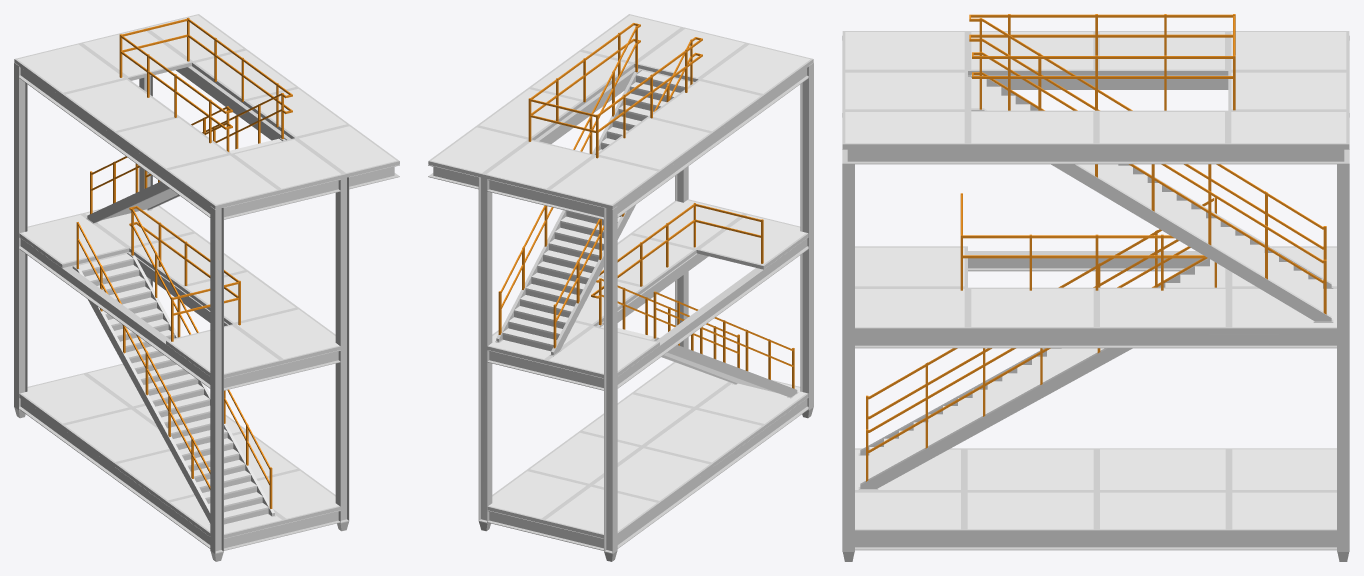
File: SM_H_Building_Tide_DeepJail_04_Shelf_04b_ATLAS.fbx
3 renders of one model, left to right at view 1: azimuth 30°, elevation 25°; view 2: azimuth 150°, elevation 25°; view 3: azimuth 270°, elevation 25°, orthographic. The views are drawn at different scales.
Parts seen in each view (by area): view 1: SM_H_Building_Tide_DeepJail_04_Shelf_04b_ATLAS; view 2: SM_H_Building_Tide_DeepJail_04_Shelf_04b_ATLAS; view 3: SM_H_Building_Tide_DeepJail_04_Shelf_04b_ATLAS.
Part boxes in pixels (x1,y1,x2,y2): SM_H_Building_Tide_DeepJail_04_Shelf_04b_ATLAS: (14,14,399,561); SM_H_Building_Tide_DeepJail_04_Shelf_04b_ATLAS: (428,14,813,561); SM_H_Building_Tide_DeepJail_04_Shelf_04b_ATLAS: (842,14,1349,561).
Bounding box in the file's own units: 427 × 806 × 883.
